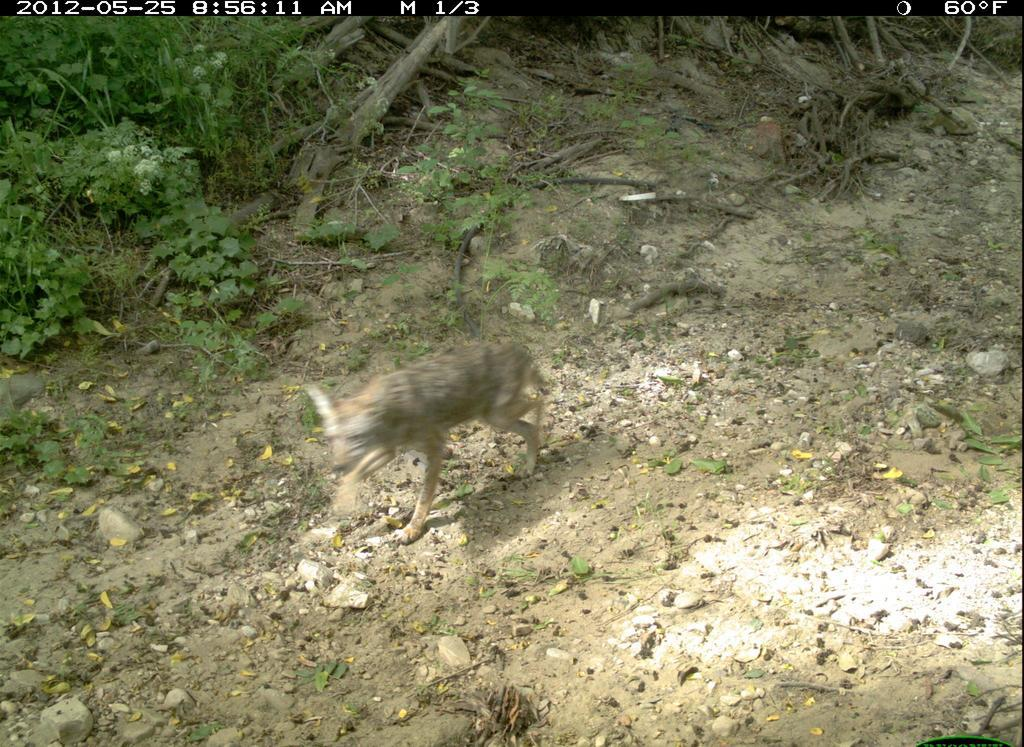coyote: (296, 340, 553, 548)
